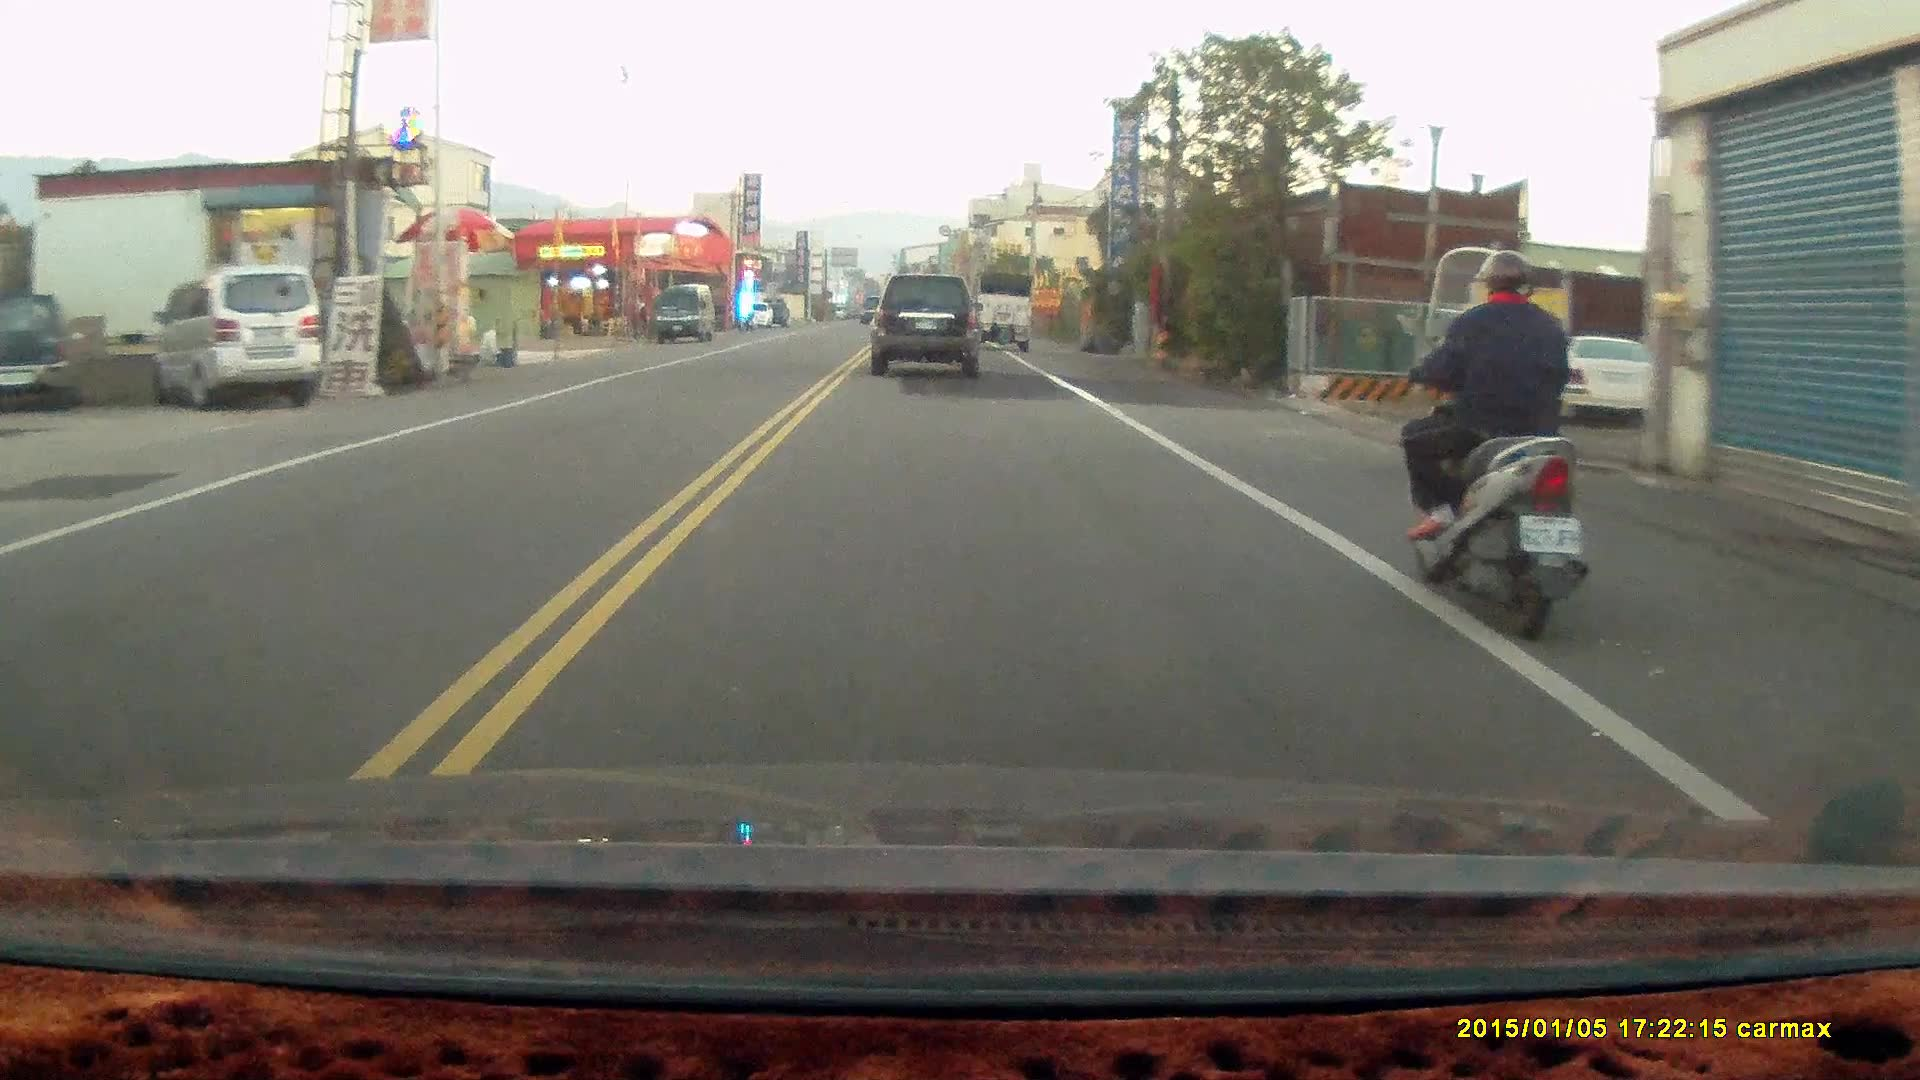rider: (1393, 247, 1589, 647)
vehicle: (157, 266, 327, 413), (873, 274, 984, 378), (1, 296, 73, 411), (973, 272, 1035, 352), (654, 285, 716, 346)
